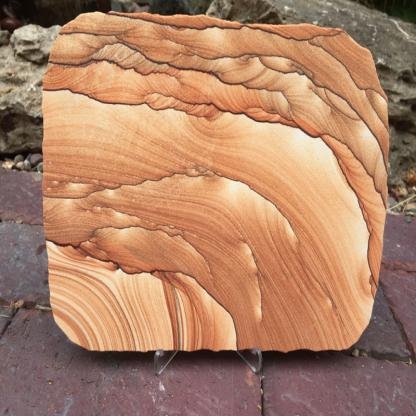Sedimentary_Sandstone: (35, 12, 392, 356)
